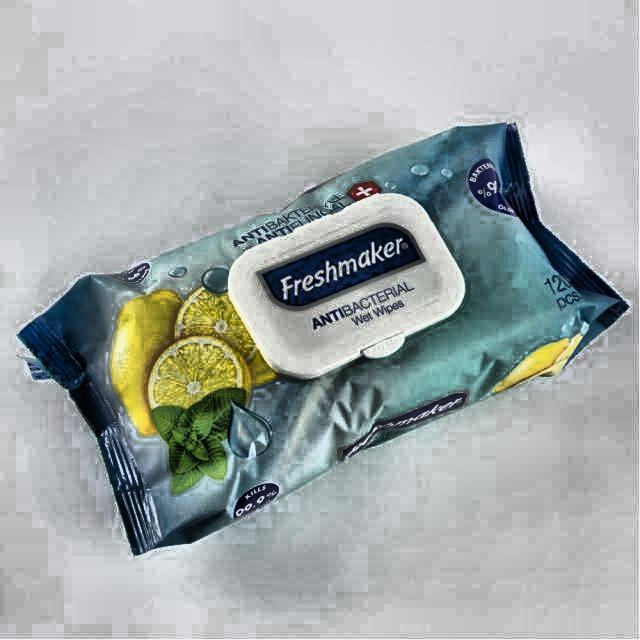plastic: (17, 124, 629, 557)
